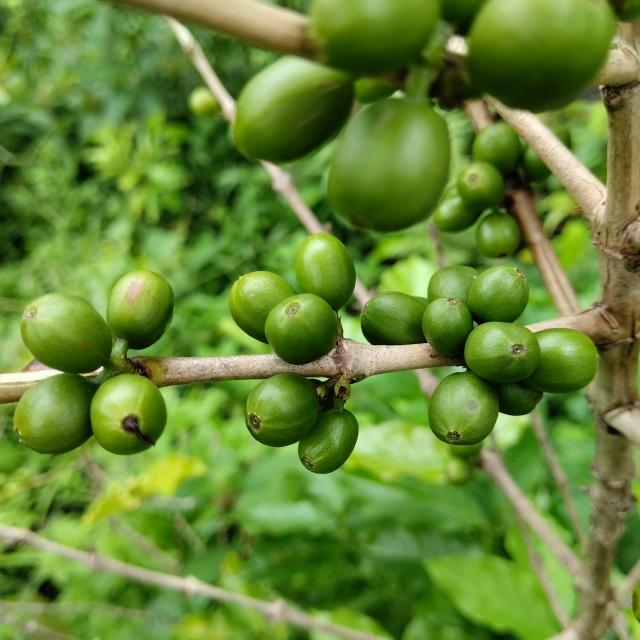green: (328, 98, 451, 231), (233, 55, 354, 162), (19, 293, 111, 374), (12, 373, 96, 454), (90, 374, 167, 455), (106, 270, 174, 350), (245, 374, 318, 448), (429, 372, 500, 446), (264, 294, 338, 365), (524, 328, 599, 394), (229, 271, 296, 343), (295, 233, 356, 311), (465, 322, 541, 383), (298, 407, 359, 474), (468, 265, 530, 324), (361, 291, 427, 345), (423, 298, 474, 356), (458, 161, 505, 211), (477, 211, 521, 258), (428, 266, 480, 305), (434, 195, 481, 232), (495, 381, 544, 416)
